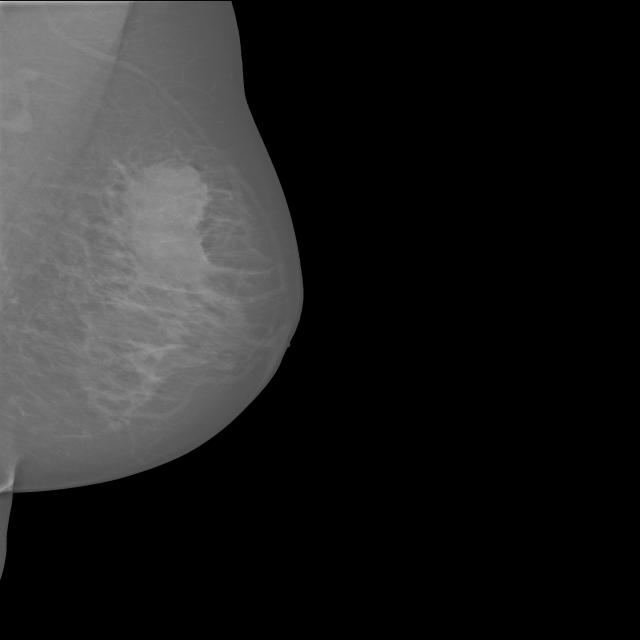Mass_1: (91, 140, 237, 314)
